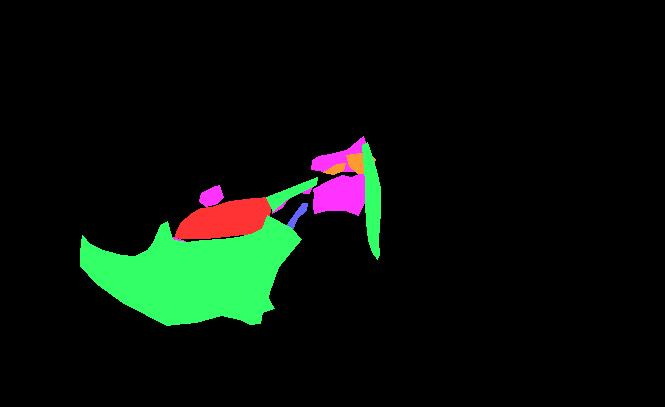Broken part: (80, 215, 301, 325), (362, 142, 380, 259), (266, 177, 317, 211)
Dent: (313, 172, 373, 215), (148, 237, 191, 286), (311, 136, 371, 171), (237, 283, 267, 301), (199, 185, 223, 206), (272, 191, 289, 213), (140, 255, 150, 272), (299, 184, 312, 193)
Missing part: (175, 197, 271, 238)
Paint chip: (346, 152, 375, 173), (323, 163, 345, 174)
Scratch: (286, 203, 307, 231), (143, 273, 146, 280)
